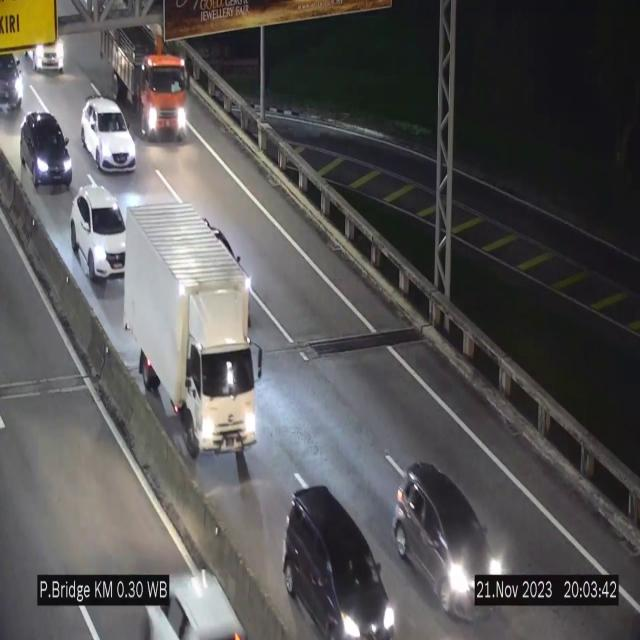Car: (279, 482, 399, 640), (398, 459, 506, 624), (138, 548, 257, 640), (70, 186, 126, 282), (18, 108, 74, 186), (80, 98, 136, 171), (24, 13, 70, 81), (0, 38, 28, 120)
Truck: (123, 202, 266, 467), (97, 25, 191, 147)
